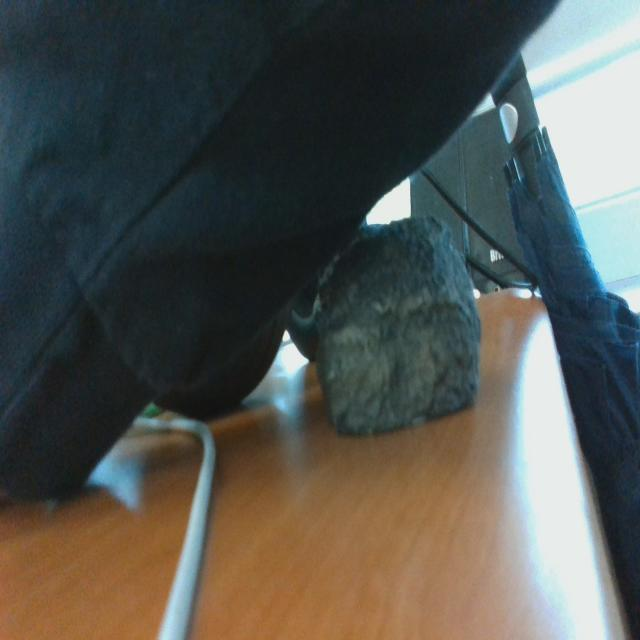stone: (312, 212, 484, 436)
